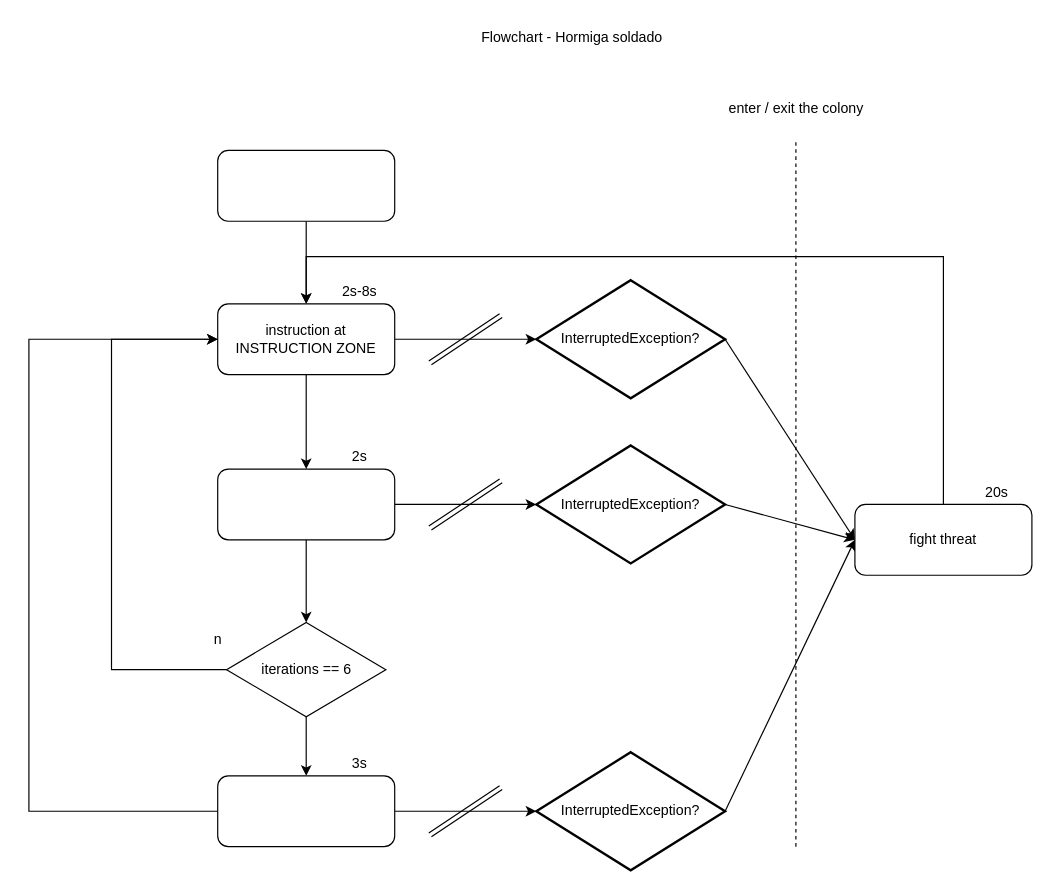
This 1053x891 diagram has some shape labels left out. The centre of each missing label's shape, as x and y in pixels:
"get to EATING ZONE and eat 1 food element" belongs at (x=306, y=811).
"new instance" belongs at (x=306, y=185).
"rest at REST ZONE" belongs at (x=306, y=504).
